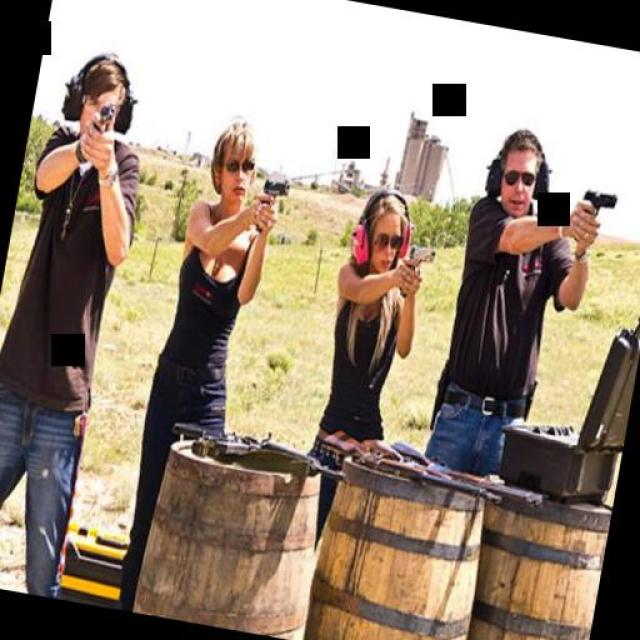gun: (395, 239, 434, 301), (574, 185, 618, 236), (252, 175, 290, 224), (86, 96, 116, 144)
